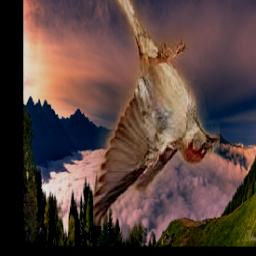Sparrow: (93, 0, 220, 227)
